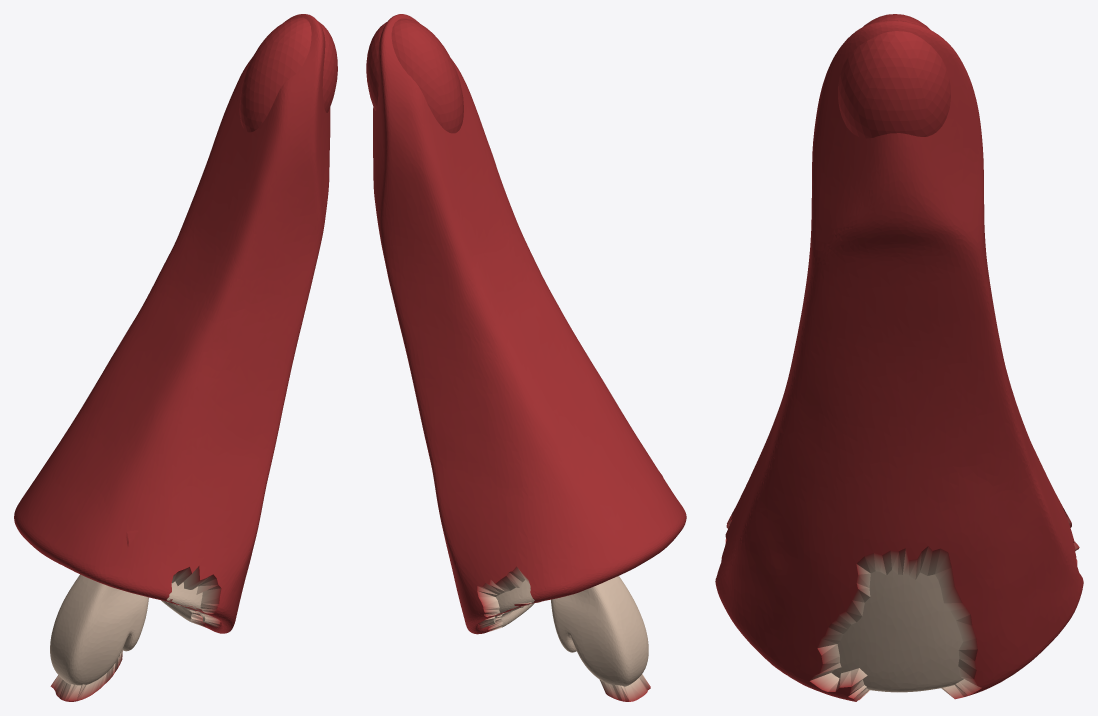
Rendered from arm_R.glb.
The picture shows the model from 3 angles, left to right: view 1: azimuth 30°, elevation 25°; view 2: azimuth 150°, elevation 25°; view 3: azimuth 270°, elevation 25°; orthographic projection. The views are drawn at different scales.
Parts seen in each view (by area): view 1: geometry_0; view 2: geometry_0; view 3: geometry_0.
Boxes of the visible parts, x1,y1,x2,y2 form: geometry_0: (14, 14, 337, 701); geometry_0: (366, 14, 686, 701); geometry_0: (715, 14, 1083, 701).
Size of the model in its own units: 0.3213 by 0.6529 by 0.2644.
